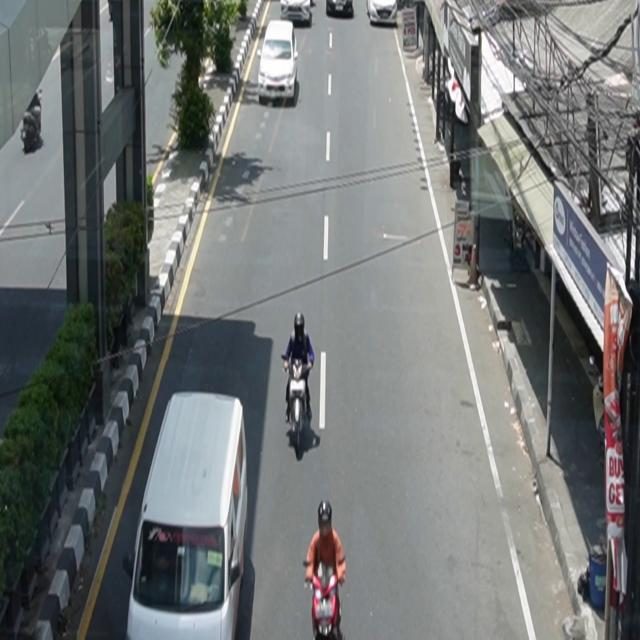bus: (125, 391, 249, 640)
car: (258, 20, 299, 106), (280, 1, 313, 26), (367, 1, 398, 26), (327, 1, 355, 18)
